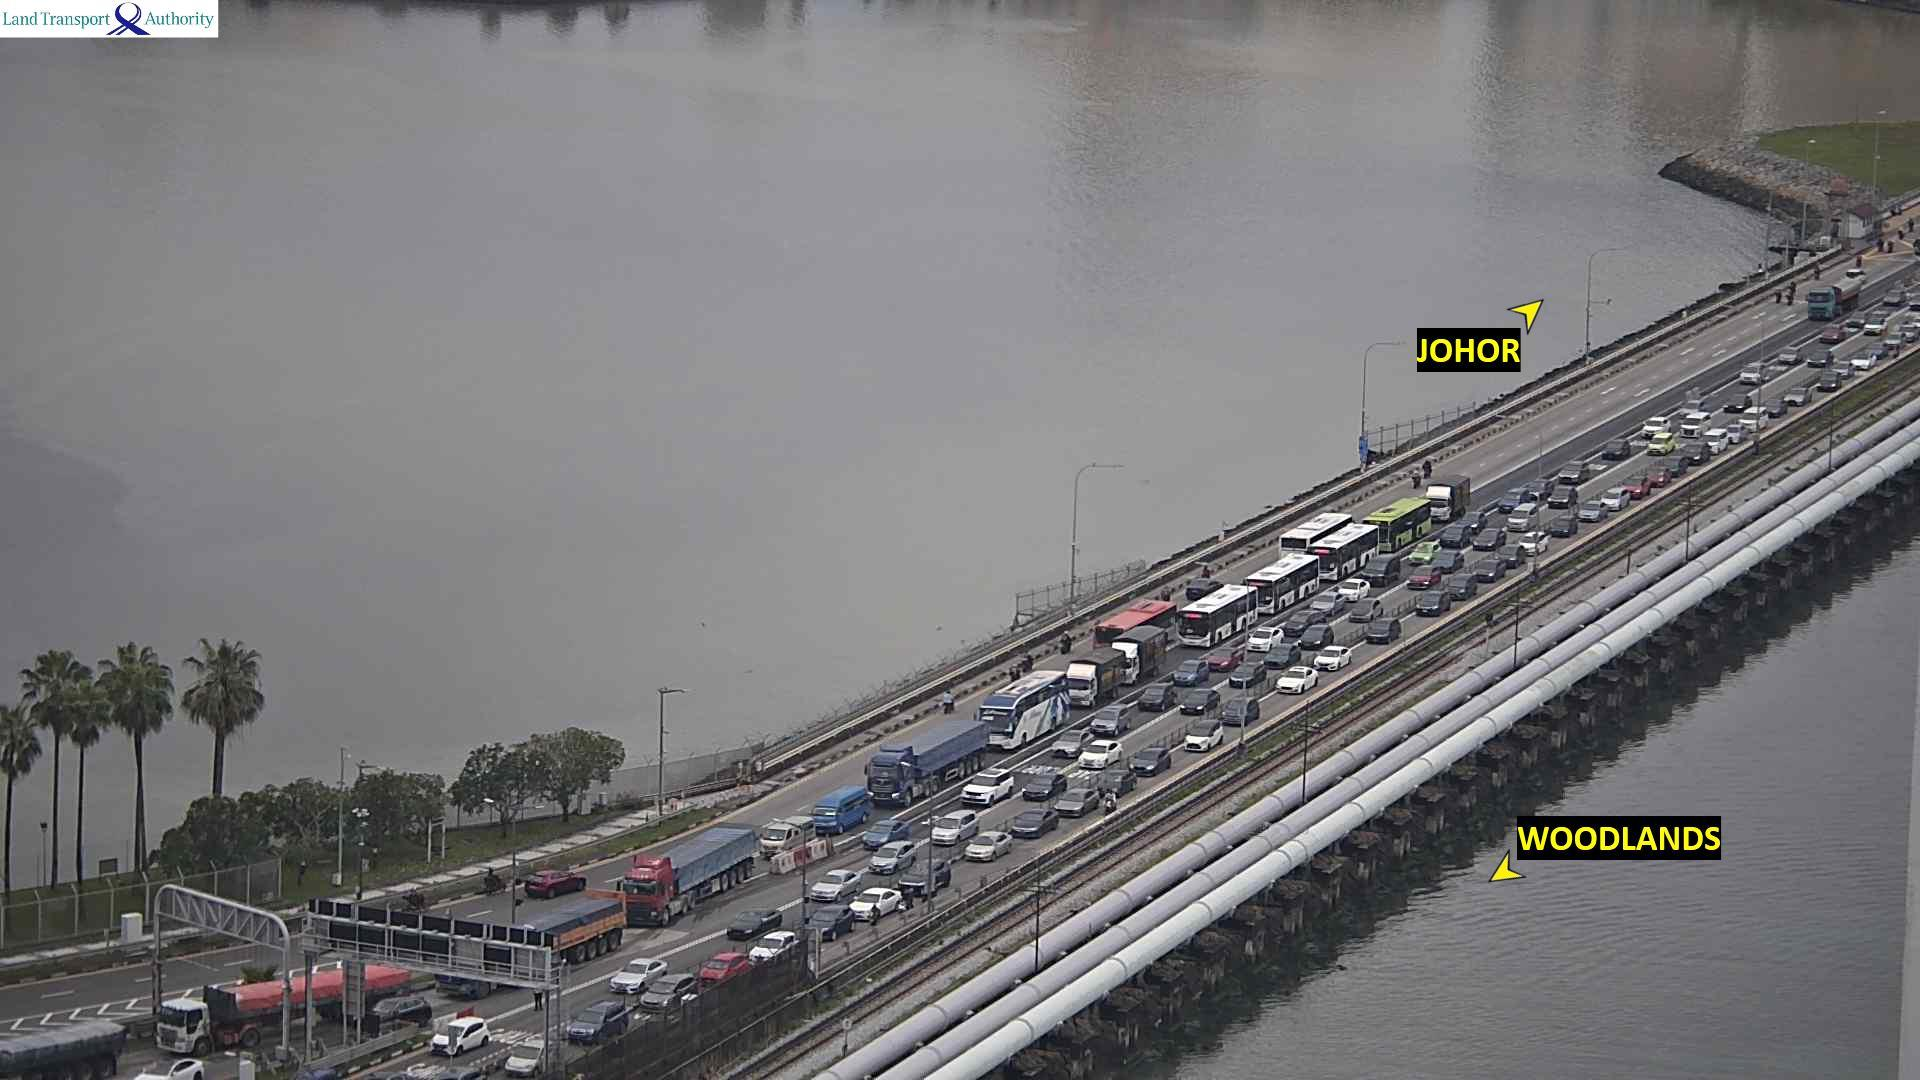vehicle-causeway-johor: (518, 874, 587, 899), (1183, 582, 1221, 603), (1845, 269, 1866, 285), (1059, 630, 1072, 654), (1415, 460, 1429, 480), (943, 691, 955, 715), (1019, 650, 1034, 669), (1010, 665, 1019, 683), (1785, 286, 1793, 303), (1855, 255, 1863, 269), (1887, 239, 1895, 253), (1774, 287, 1780, 305), (1913, 237, 1920, 253), (1789, 281, 1796, 294), (1203, 564, 1209, 578), (1813, 266, 1820, 278), (1876, 237, 1882, 252)
vehicle-causeway-singapore: (142, 959, 433, 1050), (423, 905, 636, 988), (615, 827, 753, 927), (868, 723, 985, 798), (0, 1025, 117, 1080), (1178, 585, 1258, 644), (1249, 559, 1329, 612), (1308, 526, 1377, 579), (1362, 498, 1427, 551), (562, 1005, 633, 1043), (498, 1040, 568, 1077), (812, 787, 870, 829), (607, 959, 674, 993), (699, 952, 767, 985), (431, 1022, 495, 1056), (960, 766, 1013, 807), (810, 869, 870, 903), (1801, 285, 1857, 320), (897, 858, 949, 894), (760, 820, 810, 857), (636, 984, 699, 1013), (1427, 476, 1470, 518), (928, 815, 984, 847), (727, 909, 782, 940), (845, 889, 905, 918), (368, 997, 433, 1023), (869, 840, 918, 874), (135, 1056, 203, 1080), (804, 909, 860, 938), (1076, 738, 1122, 770), (1019, 769, 1067, 799), (963, 832, 1010, 861), (1178, 721, 1221, 752), (1052, 787, 1098, 815), (1092, 704, 1130, 737), (1014, 811, 1062, 837), (1274, 665, 1319, 692), (1130, 748, 1172, 775), (1220, 696, 1259, 725), (1138, 682, 1175, 712), (1182, 690, 1221, 716), (1364, 616, 1400, 642), (1229, 662, 1266, 688), (1052, 729, 1091, 754), (1506, 502, 1539, 531), (1174, 659, 1209, 686), (1098, 771, 1134, 795), (1316, 645, 1352, 669), (1415, 592, 1451, 616), (1469, 559, 1505, 583), (1444, 574, 1477, 599), (1497, 487, 1527, 513), (1680, 411, 1710, 438), (1741, 406, 1768, 434), (1299, 625, 1332, 647), (1266, 644, 1299, 666), (1679, 440, 1709, 464), (1600, 487, 1631, 509), (1444, 522, 1473, 546), (1556, 460, 1590, 480), (1619, 475, 1651, 496), (1642, 417, 1671, 439), (1494, 545, 1524, 566), (1547, 487, 1576, 508), (1473, 530, 1506, 549), (1516, 531, 1547, 551), (1655, 456, 1689, 473), (1647, 435, 1675, 456), (1702, 429, 1726, 452), (1578, 501, 1609, 520), (1818, 324, 1849, 343), (1548, 516, 1576, 535), (1724, 393, 1753, 411), (1643, 465, 1672, 484), (1601, 438, 1627, 458), (1742, 365, 1768, 385), (1849, 351, 1875, 371), (1807, 349, 1834, 368), (1818, 372, 1842, 393), (1779, 344, 1803, 365), (1763, 398, 1787, 418), (1882, 287, 1907, 306), (1783, 388, 1812, 404), (1863, 318, 1888, 335), (1725, 425, 1746, 442)
